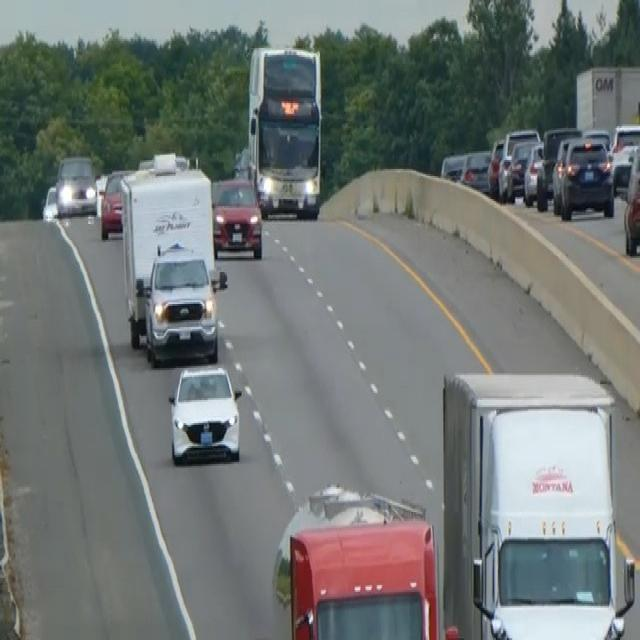bus: (245, 42, 324, 218)
car: (166, 359, 243, 468), (557, 135, 615, 221), (210, 174, 263, 260), (54, 153, 97, 217), (99, 167, 133, 240), (505, 137, 539, 199), (622, 142, 639, 256), (522, 140, 547, 208), (460, 148, 491, 192), (486, 135, 505, 196), (440, 149, 466, 183), (41, 183, 58, 221)
lorry: (273, 482, 447, 638)
truck: (119, 153, 227, 364)
